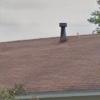Chimney: (51, 16, 67, 40)
